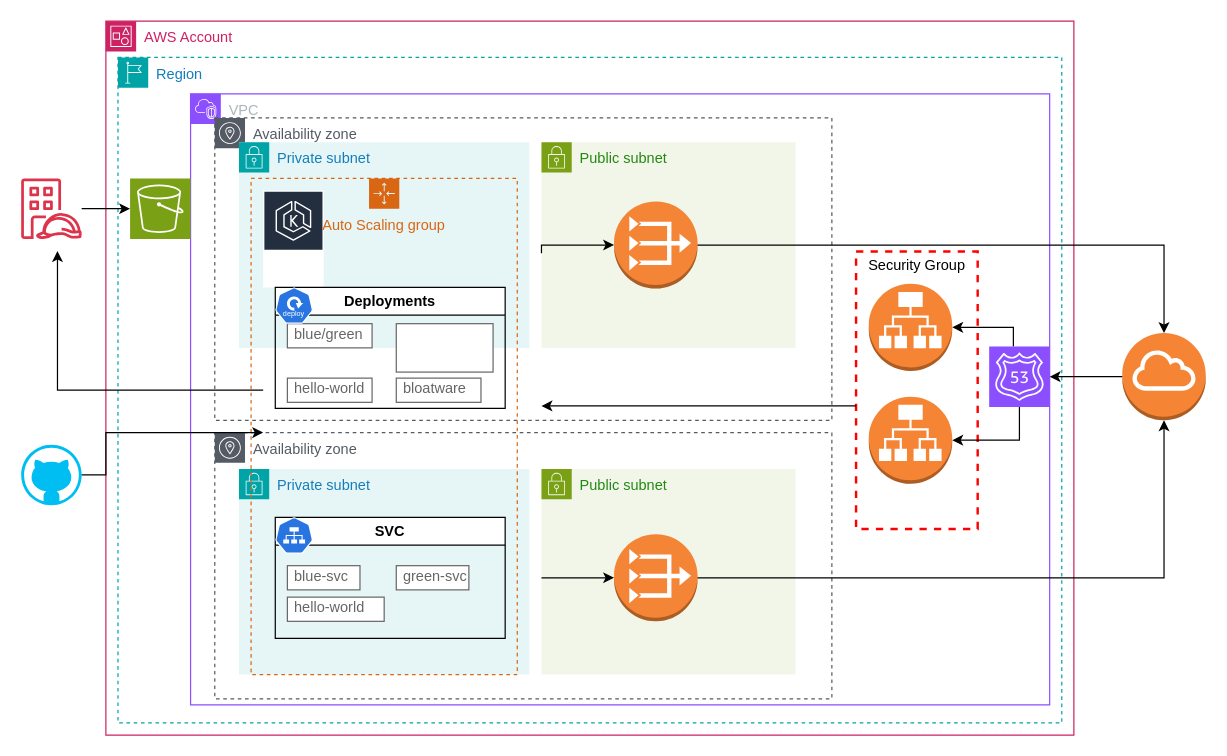
Some shapes in this 1227 by 756 pixel diagram are drawn without their labels. Each missing label, with the centre of its shape:
Amazon EKS: point (293, 238)
canary-v1/canary-v2: point (444, 347)
